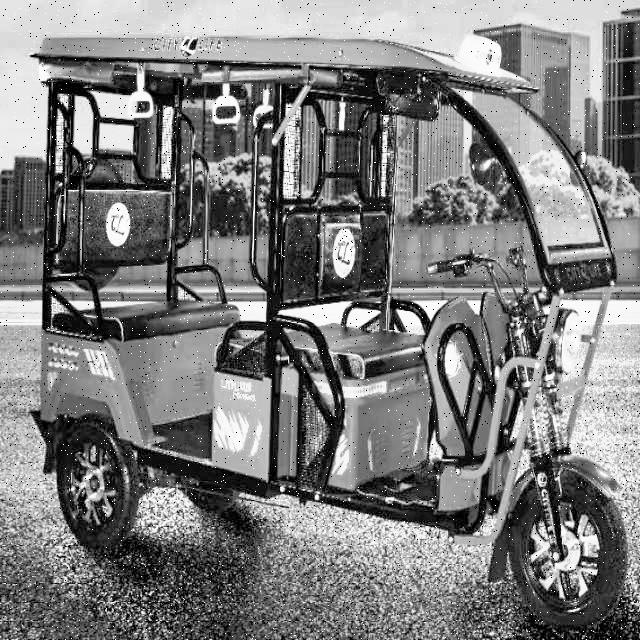Toto: (27, 22, 633, 630)
